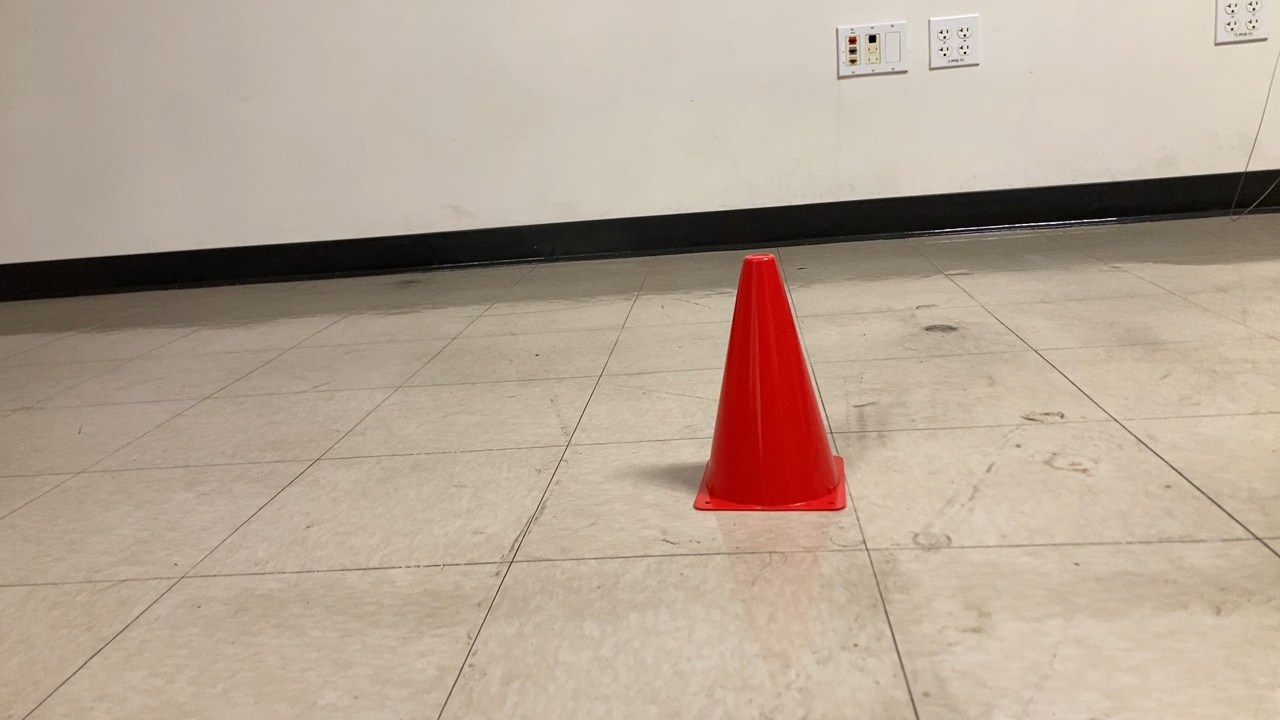red_cone: (683, 250, 860, 524)
